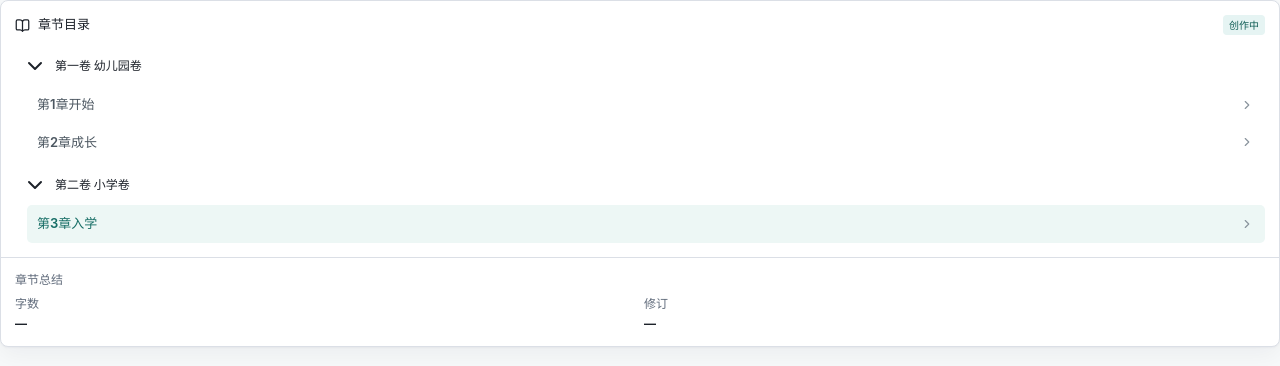
it: ForumPanels › 正式目录按卷分组并支持收起展开
Click the button with aria-label "收起卷 第一卷 幼儿园卷". click: x=98, y=66
box: [15, 46, 1265, 86]
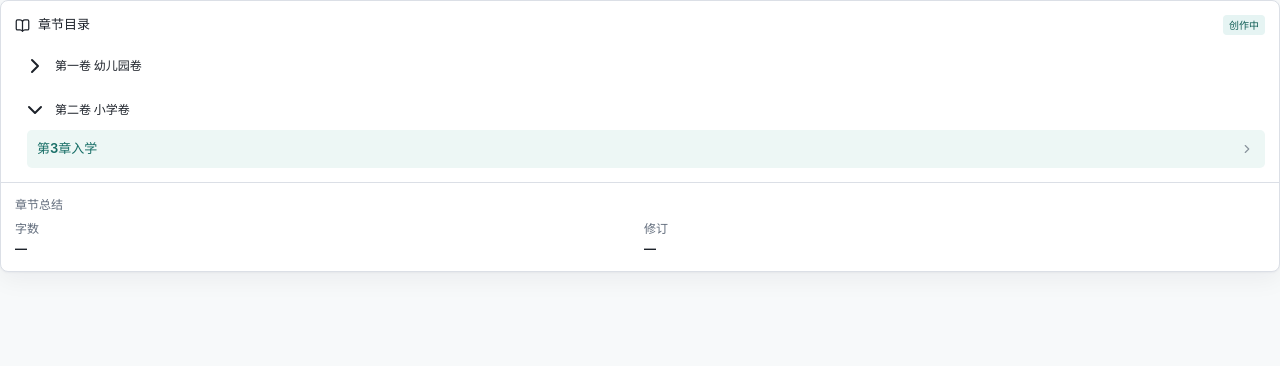
expect the text "第3章入学" is shown: met, box [37, 140, 97, 156]
expect the button "第1章开始" is gone: met
Click the button with aria-label "展开卷 第一卷 幼儿园卷". click: x=98, y=66
box: [15, 46, 1265, 86]
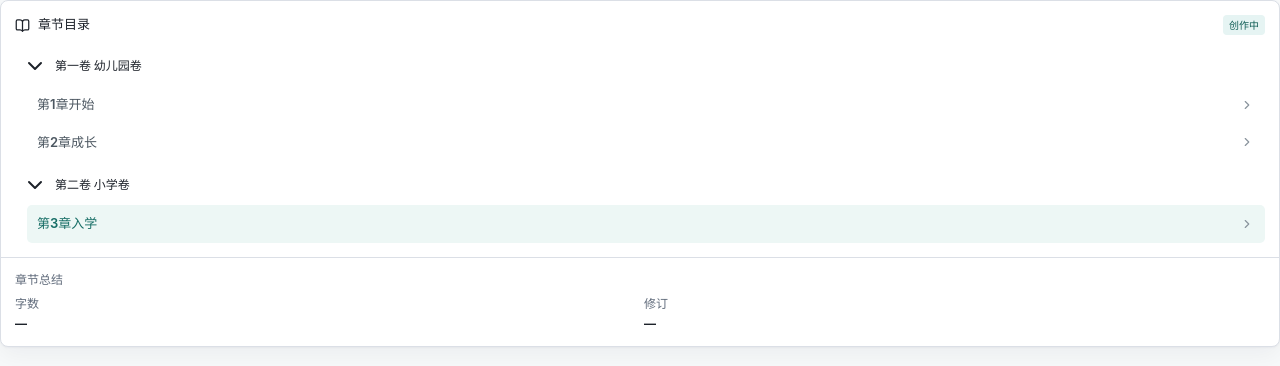
expect the text "第2章成长" is shown: met, box [37, 134, 97, 150]
